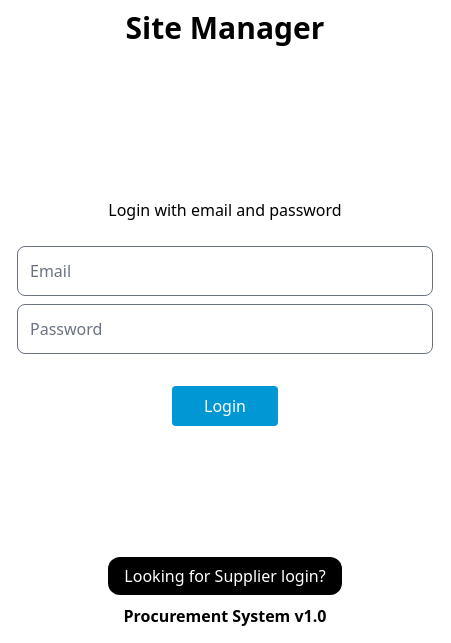
Test: validates password properly
Type "dehemiweerakkodi2@gmail.com" into the field with placeholder "Email".
click(225, 271); type("dehemiweerakkodi2@gmail.com")  # box [17, 246, 433, 296]
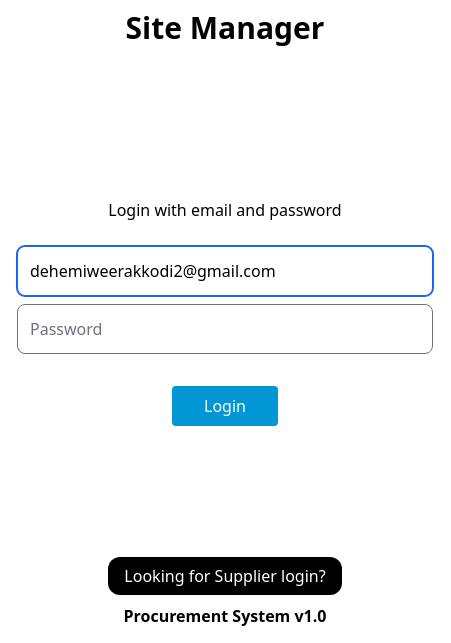
Type "qw" into the password field with placeholder "Password".
click(225, 329); type("qw")  # box [17, 304, 433, 354]
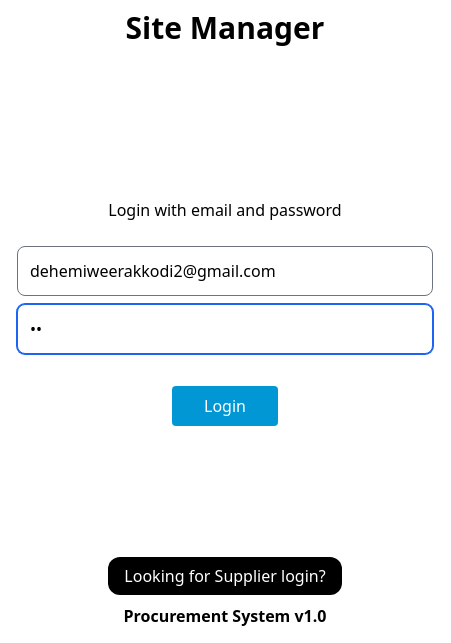
Click the submit button.
click(225, 406)  # box [172, 386, 278, 426]
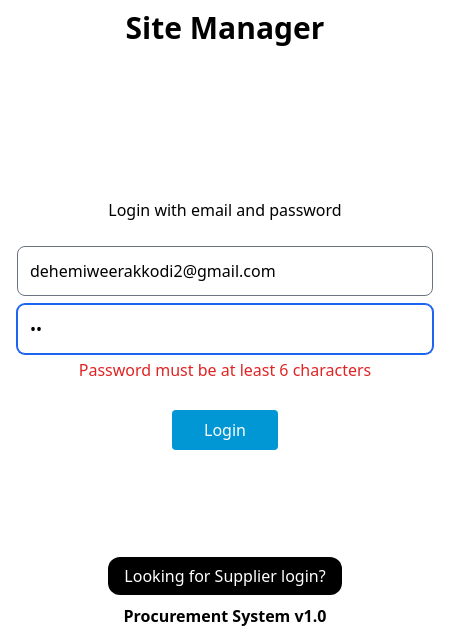
Now the text "at least 6" is shown, box [75, 354, 376, 386]
